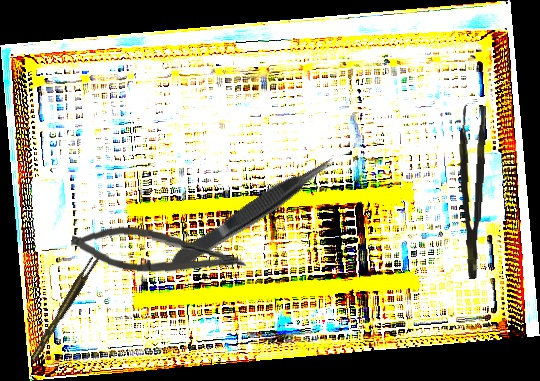Micro Scissor: (69, 221, 249, 280)
Tissue Forceps: (164, 150, 342, 274), (24, 254, 104, 362), (452, 104, 488, 280)
